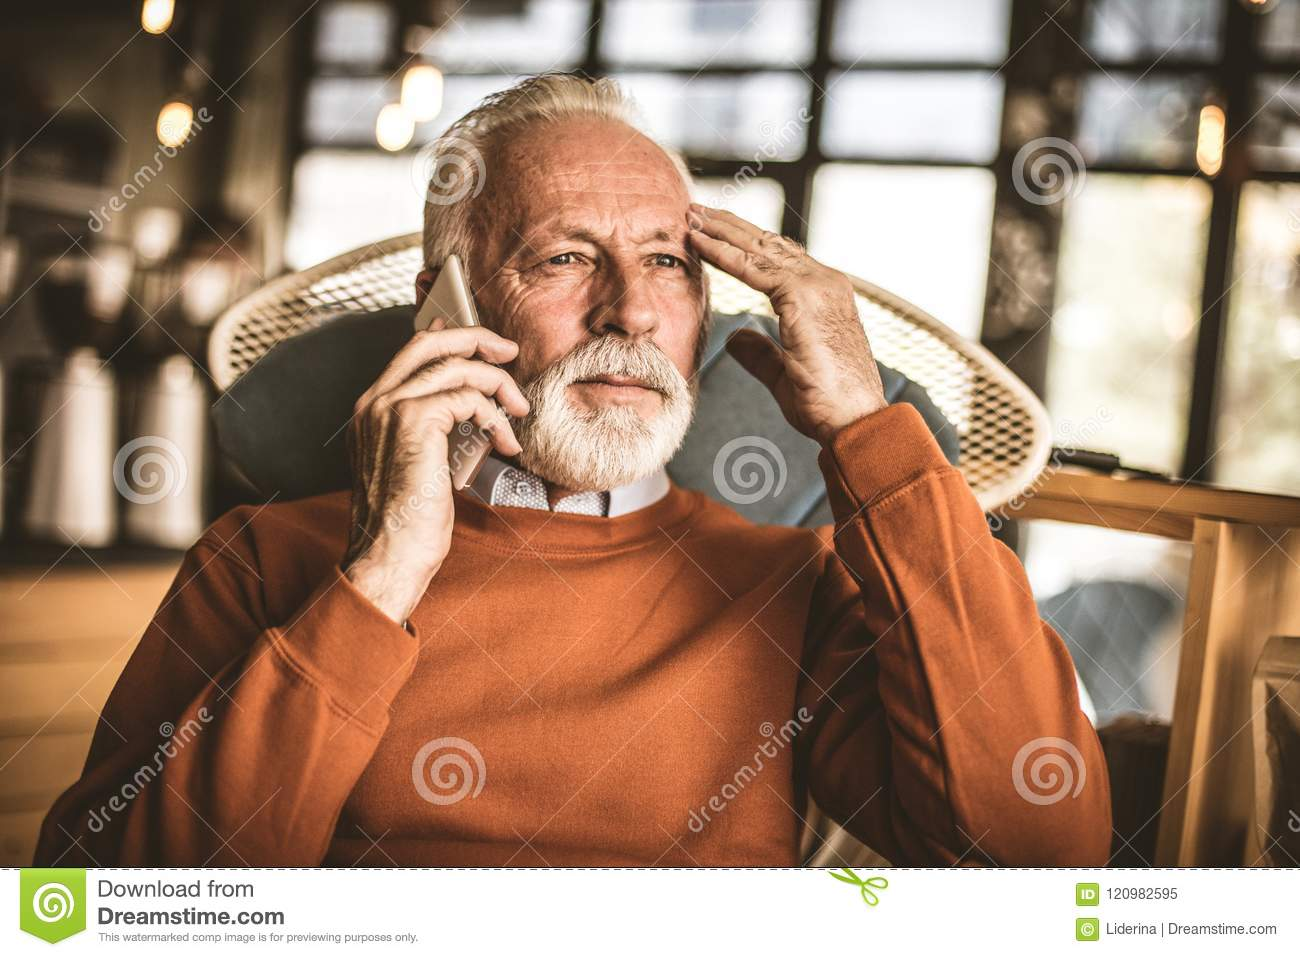phone: (409, 252, 505, 511)
talk: (347, 182, 705, 605)
